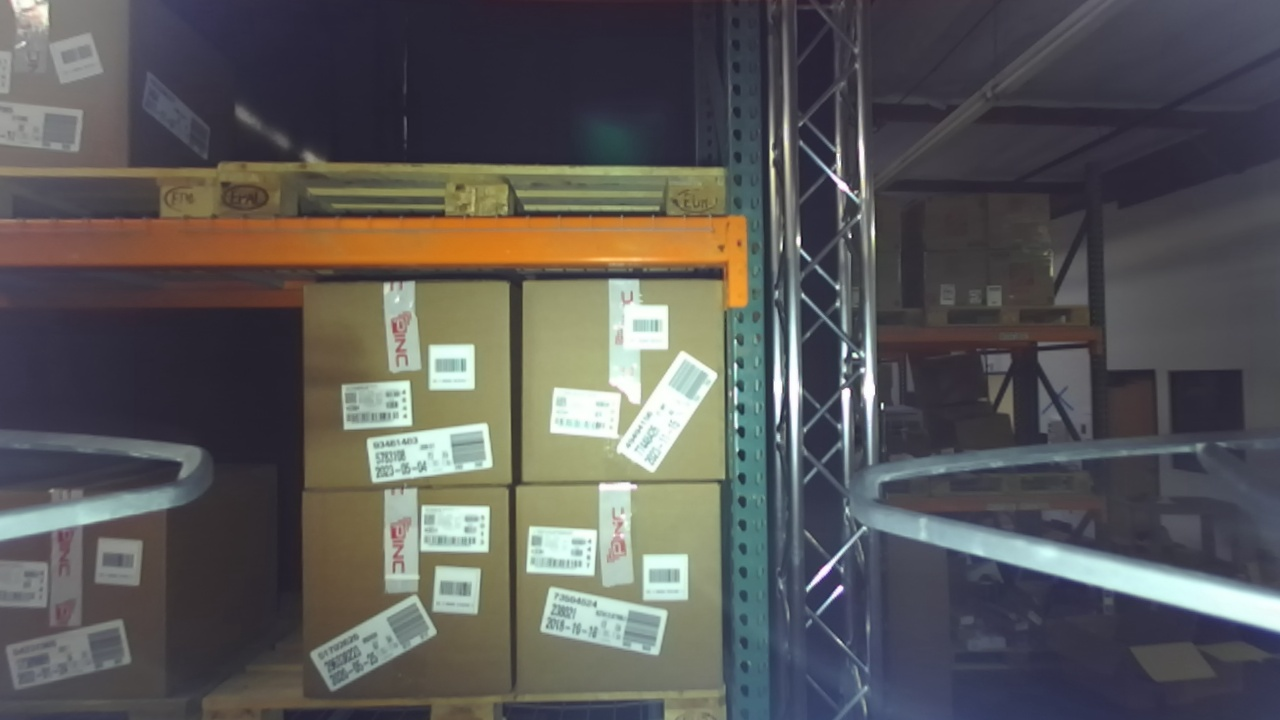box: (492, 448, 752, 720), (478, 249, 743, 512), (272, 252, 535, 516), (286, 465, 540, 716), (2, 463, 205, 720)
